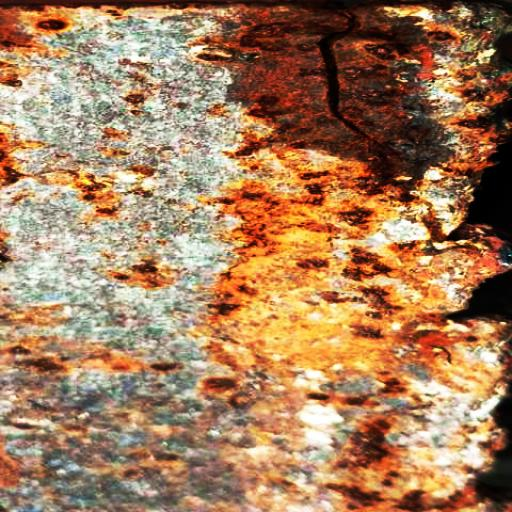crack: (319, 13, 380, 148)
